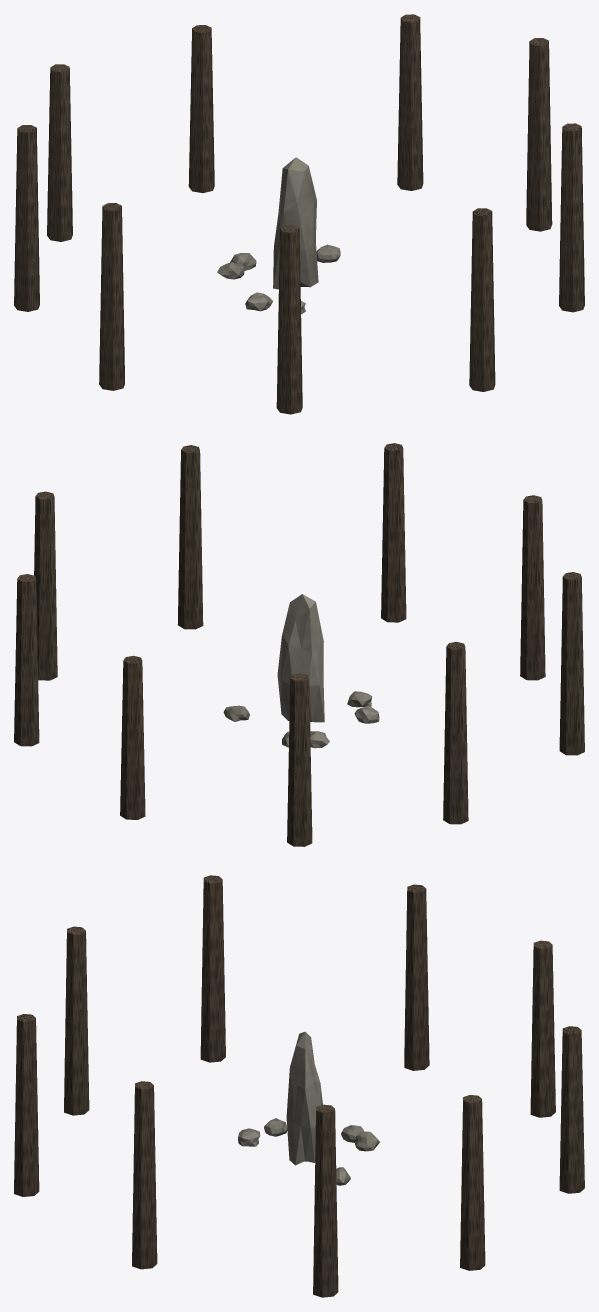
The model's file is luogo_sacro.glb.
The picture shows the model from 3 angles, top to bottom: view 1: azimuth 30°, elevation 25°; view 2: azimuth 150°, elevation 25°; view 3: azimuth 270°, elevation 25°; orthographic projection. The views are drawn at different scales.
Visible parts, largest first — view 1: luogo_sacro; view 2: luogo_sacro; view 3: luogo_sacro.
Part boxes in pixels (left/top/right/bottom): luogo_sacro: left=14, top=14, right=584, bottom=414; luogo_sacro: left=14, top=443, right=584, bottom=846; luogo_sacro: left=14, top=875, right=584, bottom=1297.
Size of the model in its own units: 8.73 by 3.04 by 8.56.
Materials: 2 (2 with a texture image).
